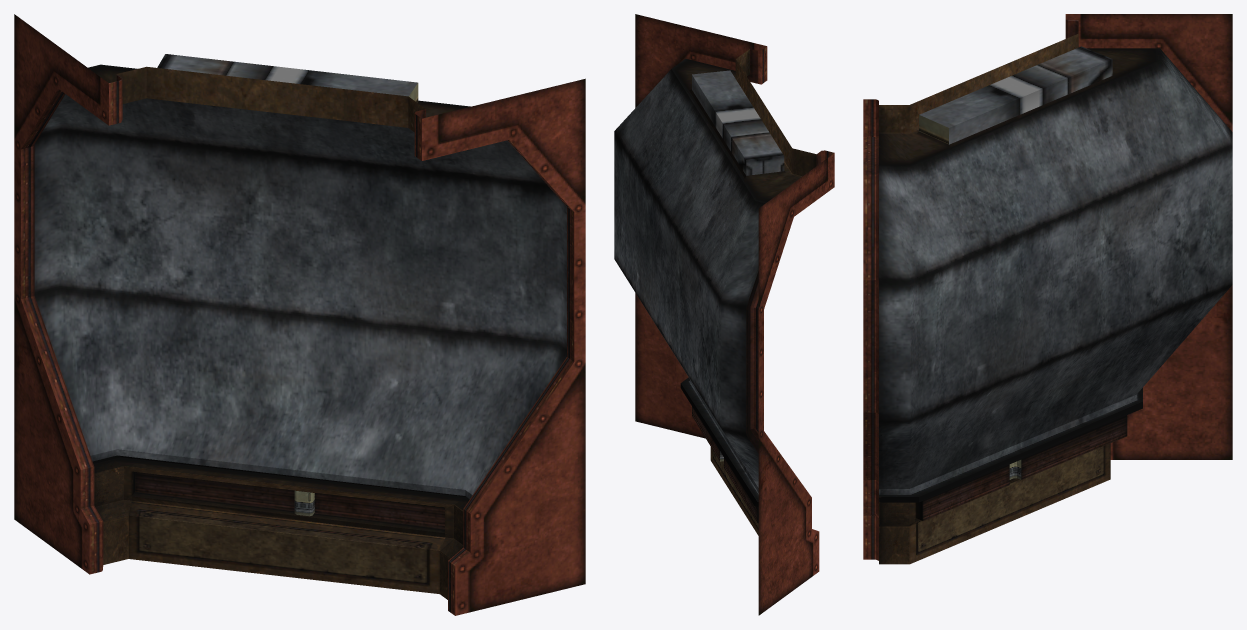
File: bevelled_concave_small.dae
3 renders of one model, left to right at view 1: azimuth 30°, elevation 25°; view 2: azimuth 150°, elevation 25°; view 3: azimuth 270°, elevation 25°, orthographic. The views are drawn at different scales.
Visible parts, largest first — view 1: polySurface534; view 2: polySurface534; view 3: polySurface534.
Part boxes in pixels (<box>): polySurface534: <box>14,14,585,615</box>; polySurface534: <box>614,14,834,615</box>; polySurface534: <box>863,14,1232,564</box>.
Bounding box in the file's own units: 3 × 4 × 3.
